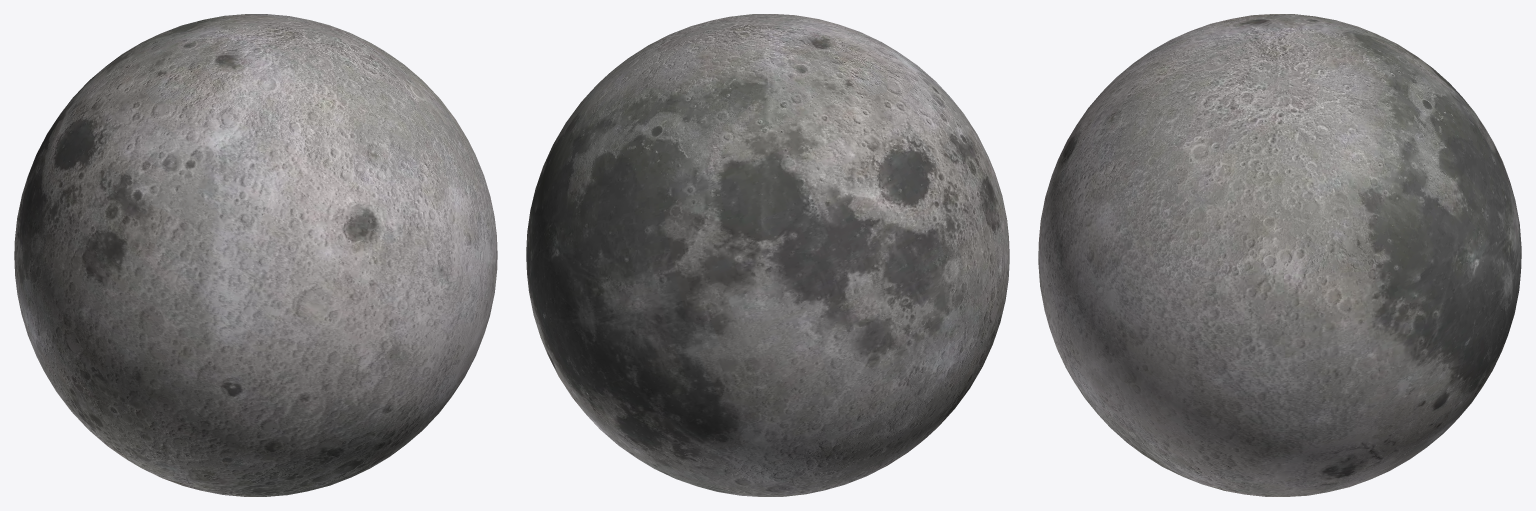
File: Moon.glb
The picture shows the model from 3 angles, left to right: view 1: azimuth 30°, elevation 25°; view 2: azimuth 150°, elevation 25°; view 3: azimuth 270°, elevation 25°; orthographic projection.
Visible parts, largest first — view 1: moon; view 2: moon; view 3: moon.
Boxes of the visible parts, <box> form: moon: <box>14,14,497,496</box>; moon: <box>526,14,1009,496</box>; moon: <box>1038,14,1521,496</box>.
Size of the model in its own units: 99.93 by 99.94 by 99.92.
1 material, 1 textured.
